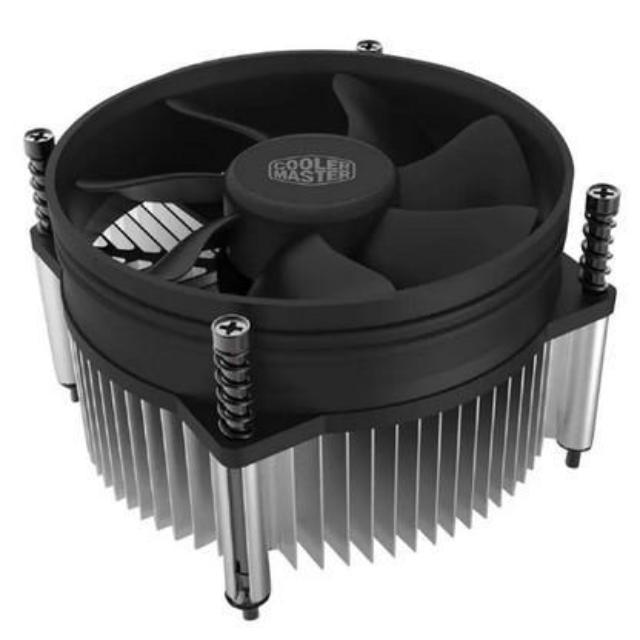CPU_Fan: (28, 39, 617, 608)
